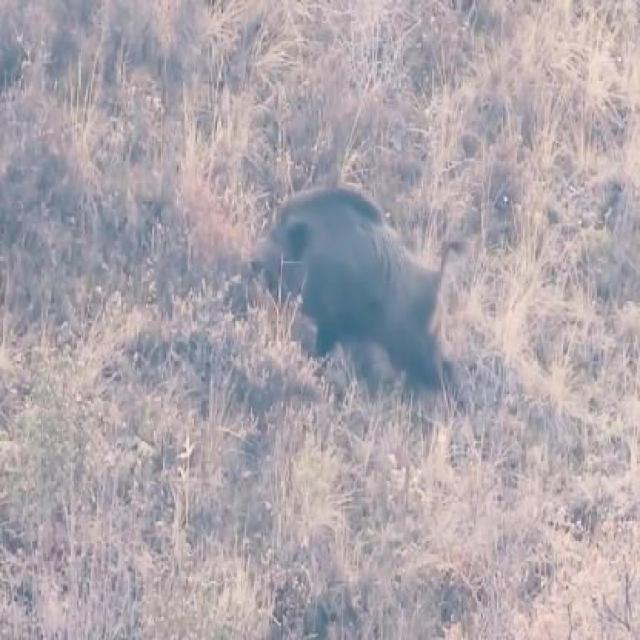pig: (232, 144, 456, 373)
